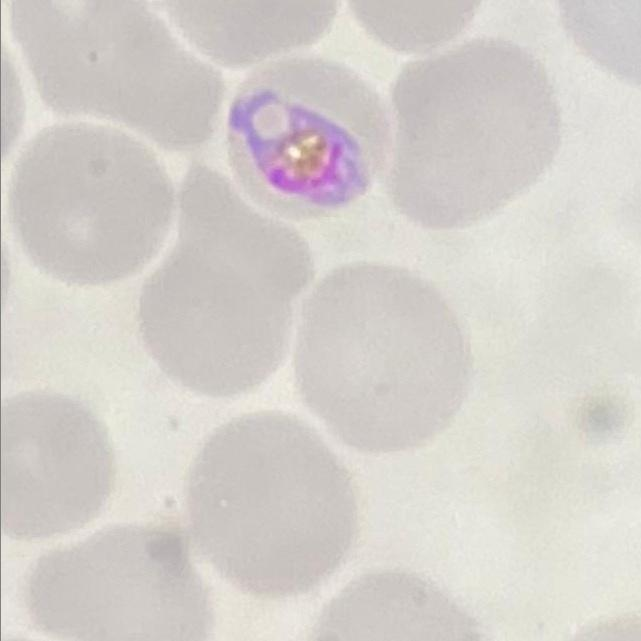Infected: (218, 49, 399, 226)
Uninfected: (140, 162, 313, 403), (290, 259, 478, 453), (383, 34, 562, 233), (13, 0, 220, 156), (192, 409, 361, 594), (13, 121, 174, 291), (30, 522, 221, 641), (0, 391, 119, 536)
